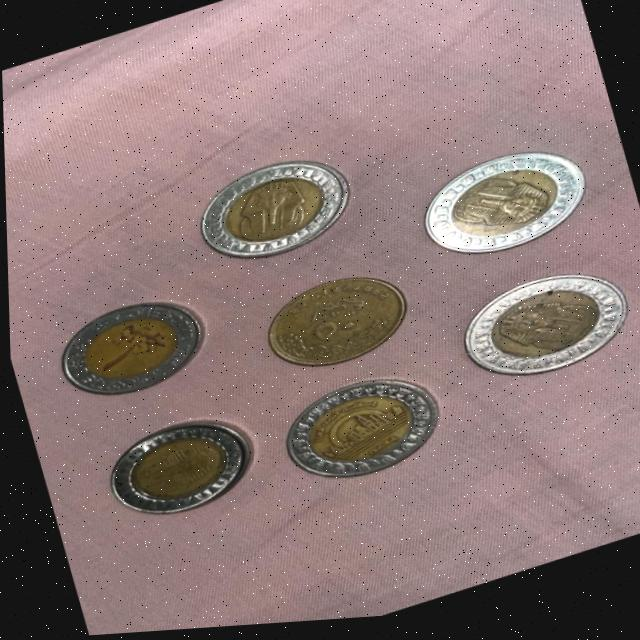Half Pound: (240, 258, 419, 391)
One Pound: (434, 253, 640, 410), (401, 140, 594, 283), (188, 142, 361, 279), (269, 366, 447, 499), (90, 403, 264, 537), (41, 283, 214, 416)
